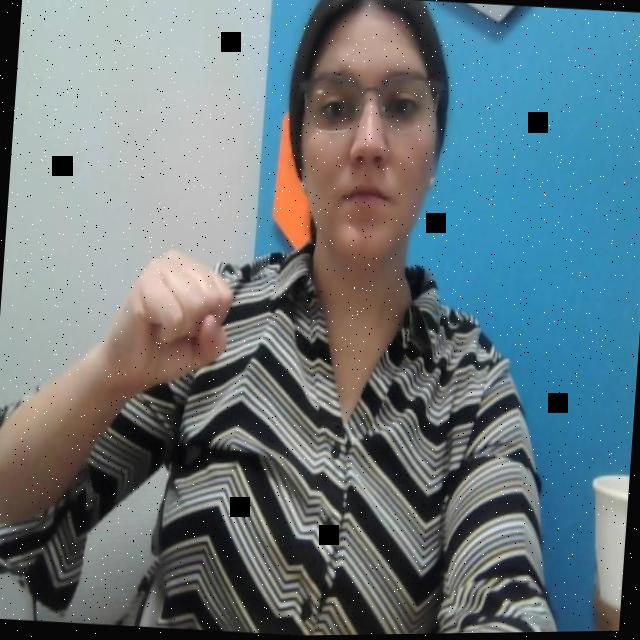Rock: (105, 244, 246, 387)
